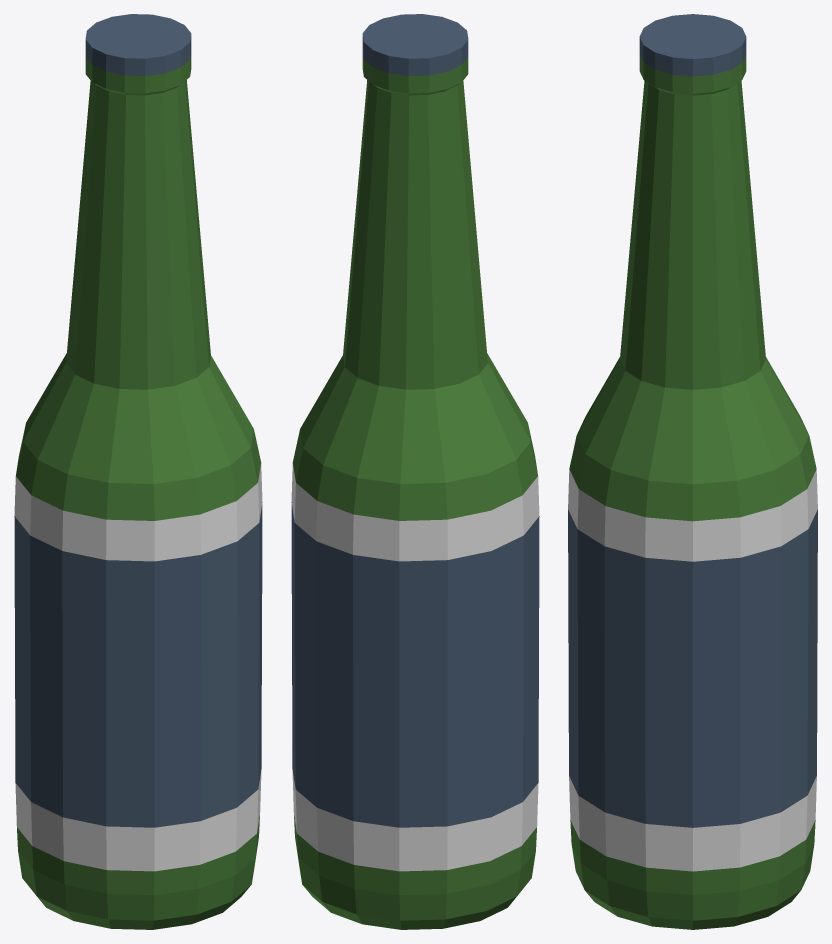
Rendered from Beer_01.fbx.
3 renders of one model, left to right at view 1: azimuth 30°, elevation 25°; view 2: azimuth 150°, elevation 25°; view 3: azimuth 270°, elevation 25°, orthographic.
Parts seen in each view (by area): view 1: Beer_01; view 2: Beer_01; view 3: Beer_01.
Boxes of the visible parts, <box> form: Beer_01: <box>14,14,262,929</box>; Beer_01: <box>291,14,539,929</box>; Beer_01: <box>568,14,817,929</box>.
Bounding box in the file's own units: 5.65 × 21.17 × 5.65.
